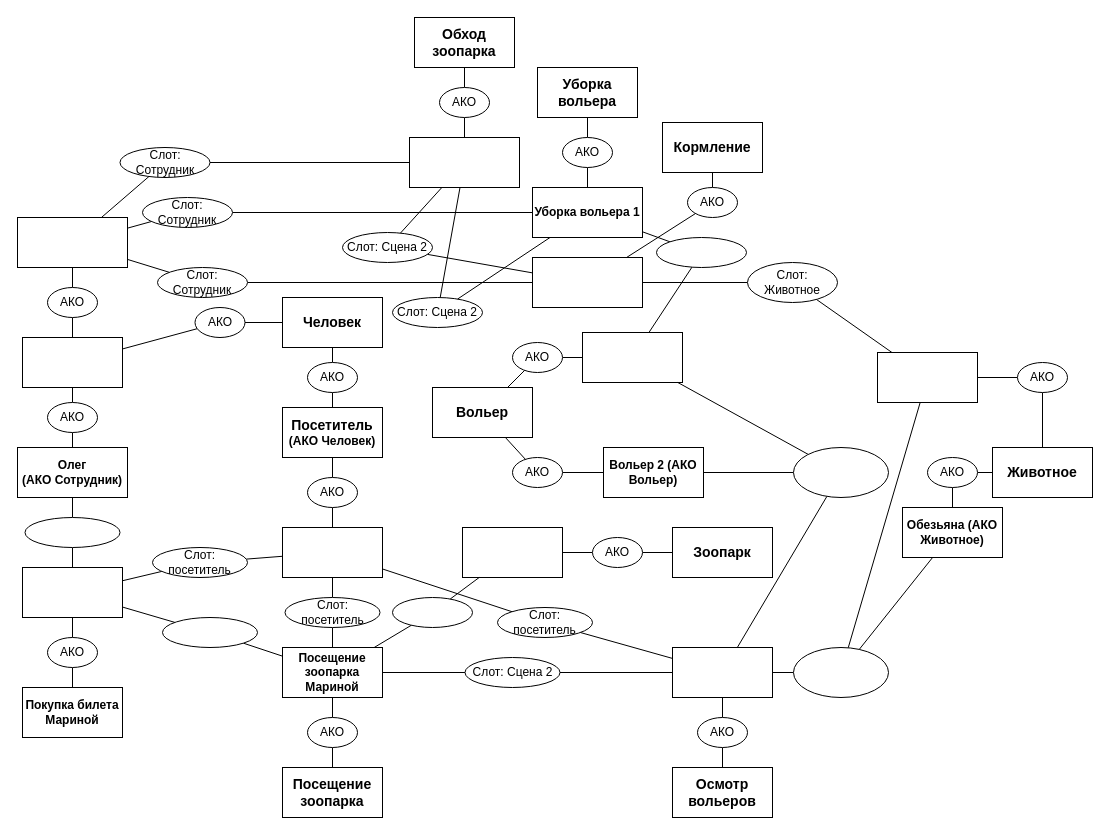
This 1110x835 diagram has some shape labels left out. Each missing label, with the centre of its shape:
Вольер 1 (АКО Вольер): (x=632, y=357)
Денис (АКО Сотрудник): (x=72, y=242)
Зоопарк "Лимпопо" (АКО Зоопарк): (x=512, y=552)
Кормление сов: (x=587, y=282)
Марина (АКО Посетитель): (x=332, y=552)
Обход зоопарка Денисом: (x=464, y=162)
Осмотр вольеров Мариной: (x=722, y=672)
Покупка билета Мариной (АКО Покупка билета: (x=72, y=592)
Слот: Вольер: (x=701, y=252)
Слот: Зоопарк: (x=432, y=612)
Слот: кассир: (x=72, y=532)
Слот: посещенные вольеры: (x=840, y=472)
Слот: Сцена 1: (x=210, y=632)
Слот: увиденные животыне: (x=840, y=672)
Сова (АКО Животное): (x=927, y=377)
Сотрудник (АКО Человек): (x=72, y=362)
